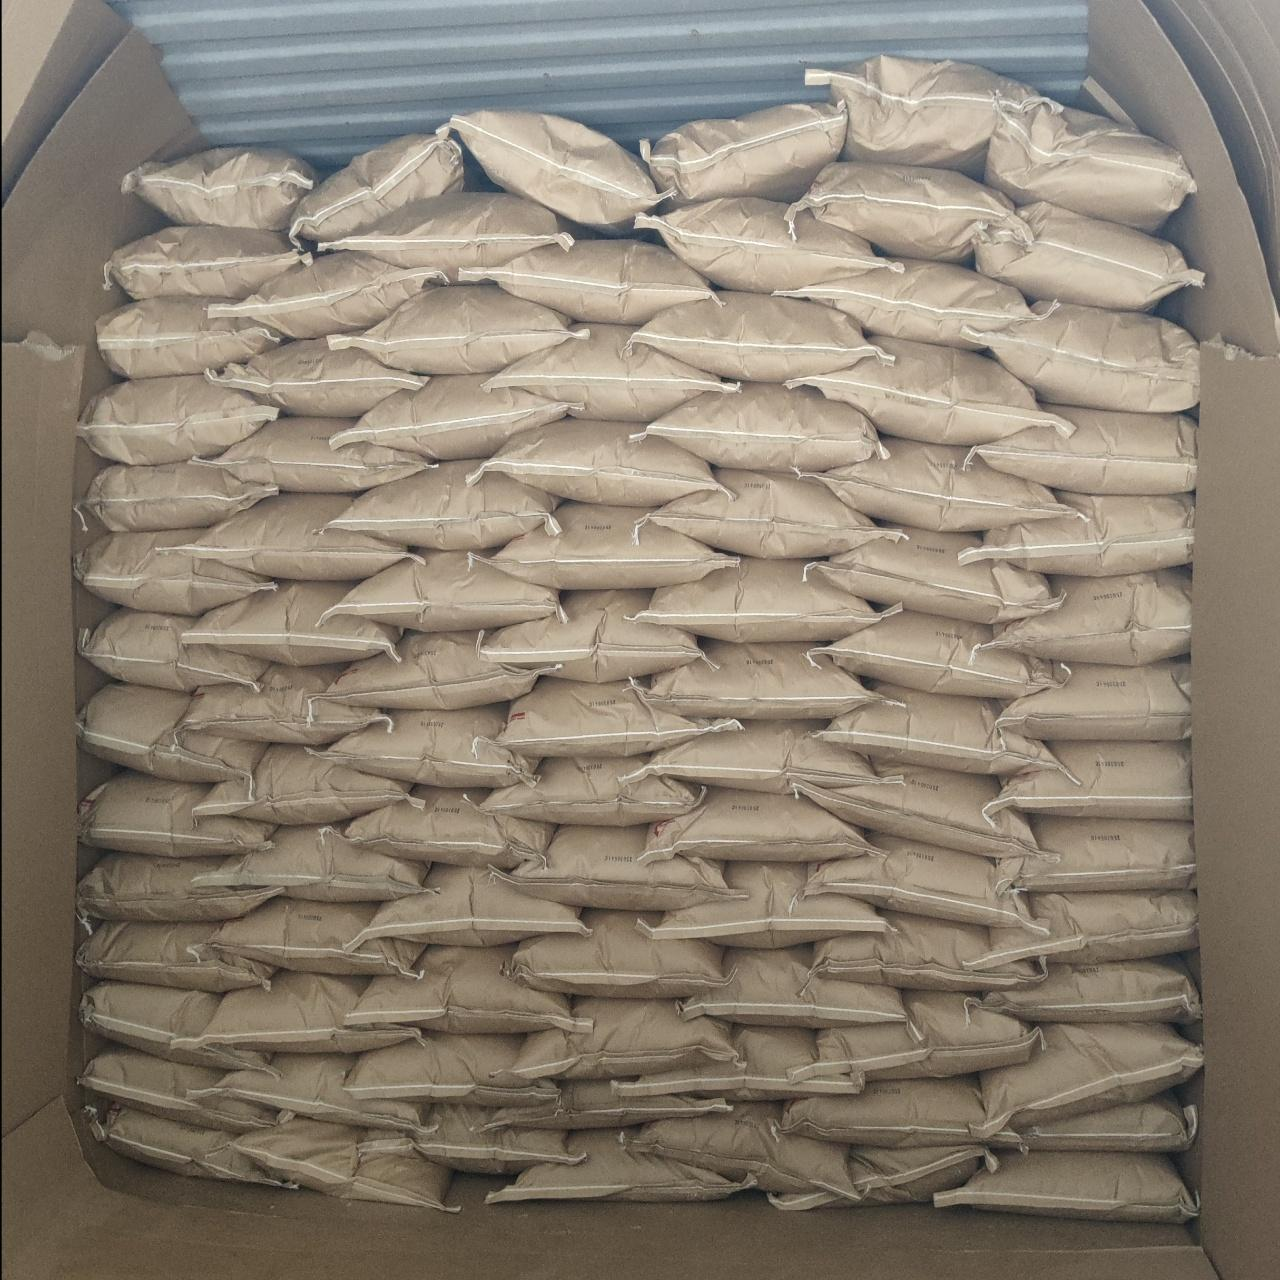sack: (786, 338, 1058, 444), (968, 1023, 1202, 1138), (814, 54, 1042, 172), (988, 98, 1190, 228), (448, 110, 662, 230), (800, 438, 1064, 530), (974, 204, 1202, 310), (776, 260, 1044, 348), (810, 528, 1060, 622), (488, 326, 736, 420), (632, 292, 890, 382), (316, 192, 574, 281), (638, 198, 882, 292), (804, 834, 1042, 930), (786, 162, 1014, 262), (984, 304, 1198, 408), (798, 762, 1038, 854), (810, 610, 1070, 694), (620, 1104, 852, 1196), (632, 384, 880, 470), (486, 502, 734, 588), (458, 242, 716, 324), (648, 470, 888, 558), (822, 684, 1056, 774), (644, 100, 846, 204), (684, 946, 916, 1036), (340, 946, 588, 1030), (638, 558, 892, 638), (234, 1118, 454, 1210), (638, 862, 884, 944), (174, 494, 414, 578), (290, 128, 470, 240), (330, 460, 558, 548), (480, 418, 718, 502), (770, 1075, 1027, 1152), (348, 866, 588, 948), (968, 406, 1196, 492), (350, 286, 572, 374), (480, 590, 702, 678), (814, 992, 1040, 1078), (332, 376, 566, 458), (86, 1098, 294, 1190), (80, 1044, 292, 1134), (960, 492, 1192, 574), (502, 826, 734, 908), (488, 1130, 752, 1202), (210, 254, 444, 334), (496, 678, 734, 756), (78, 682, 262, 782), (990, 570, 1190, 662), (936, 1152, 1198, 1222), (326, 552, 560, 630), (812, 910, 1040, 990), (82, 982, 276, 1076), (312, 704, 534, 786), (638, 642, 876, 718), (510, 910, 720, 996), (190, 418, 430, 492), (198, 972, 420, 1052), (616, 1026, 862, 1098), (192, 826, 428, 900), (342, 786, 554, 868), (192, 1054, 426, 1128), (182, 582, 398, 662), (512, 998, 728, 1078), (640, 722, 886, 792), (78, 376, 278, 462), (970, 890, 1196, 966), (206, 338, 428, 414), (642, 788, 870, 862), (78, 770, 274, 854), (194, 746, 410, 822), (180, 664, 390, 742), (212, 898, 422, 976), (78, 530, 270, 614), (328, 632, 538, 708), (124, 148, 316, 230), (984, 742, 1190, 818), (996, 660, 1190, 738), (78, 610, 266, 690), (364, 1104, 582, 1172), (478, 756, 702, 822), (348, 1032, 558, 1102), (996, 816, 1194, 890), (970, 958, 1198, 1022), (768, 1144, 996, 1208), (106, 226, 306, 296), (98, 300, 278, 376), (78, 852, 276, 920), (80, 462, 278, 530), (78, 922, 274, 990), (1010, 1092, 1198, 1152), (480, 1082, 732, 1126)
